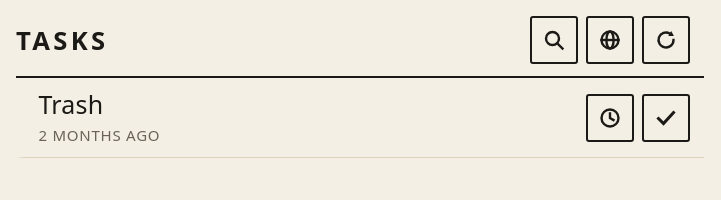
Test: App › shows the API message and keeps the row actionable when completion fails
Click the button named "done" at (666, 118), box [642,94,690,142]
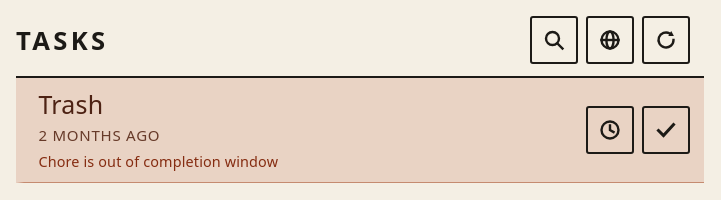
Expected: the button named "done" is enabled, [642,106,690,154]
Now the text "Chore is out of completion window" is shown, box [38,152,278,171]
